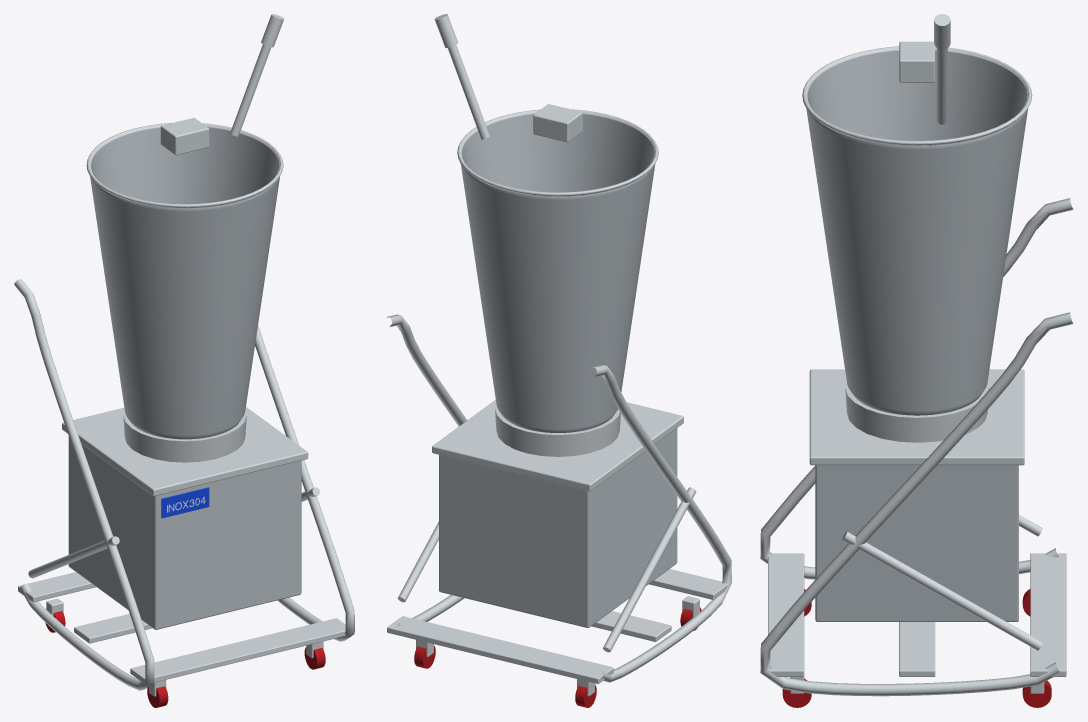
The model's file is licuadora-industrial-con-base-v1.glb.
3 renders of one model, left to right at view 1: azimuth 30°, elevation 25°; view 2: azimuth 150°, elevation 25°; view 3: azimuth 270°, elevation 25°, orthographic. The views are drawn at different scales.
Visible parts, largest first — view 1: Acero_inoxidable_satinado, Cantos_y_parrillas, Rotulo_azul, Mando_rojo; view 2: Acero_inoxidable_satinado, Cantos_y_parrillas, Mando_rojo; view 3: Acero_inoxidable_satinado, Cantos_y_parrillas, Mando_rojo.
Part boxes in pixels (<box>): Acero_inoxidable_satinado: <box>68,127,301,629</box>; Cantos_y_parrillas: <box>14,14,354,696</box>; Rotulo_azul: <box>161,487,209,518</box>; Mando_rojo: <box>45,611,325,707</box>; Acero_inoxidable_satinado: <box>439,114,677,627</box>; Cantos_y_parrillas: <box>386,14,731,696</box>; Mando_rojo: <box>414,607,701,707</box>; Acero_inoxidable_satinado: <box>806,51,1027,621</box>; Cantos_y_parrillas: <box>760,14,1073,696</box>; Mando_rojo: <box>782,589,1051,707</box>.
Size of the model in its own units: 0.5161 by 1.39 by 0.5607.
